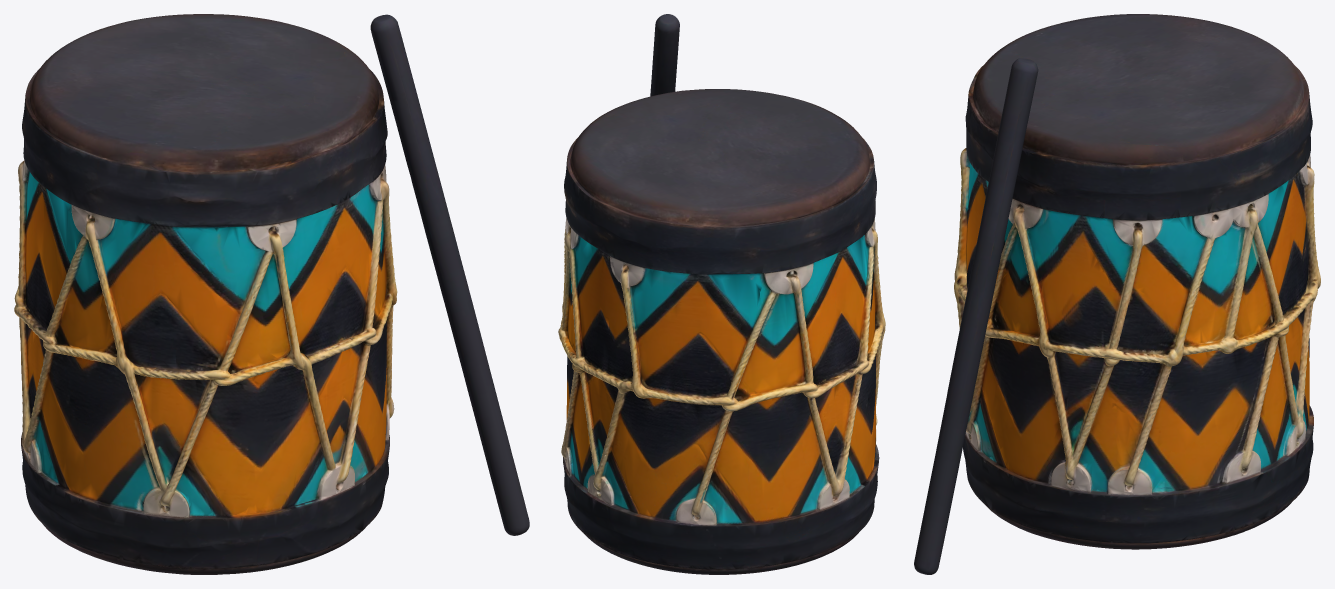
Rendered from modelo.glb.
The picture shows the model from 3 angles, left to right: view 1: azimuth 30°, elevation 25°; view 2: azimuth 150°, elevation 25°; view 3: azimuth 270°, elevation 25°; orthographic projection. The views are drawn at different scales.
Visible parts, largest first — view 1: node_0; view 2: node_0; view 3: node_0.
Part boxes in pixels (x1,y1,x2,y2): node_0: (14,14,529,574); node_0: (558,14,885,574); node_0: (914,14,1320,574).
Size of the model in its own units: 0.654 by 0.8299 by 0.6383.
Materials: 1 (1 with a texture image).
